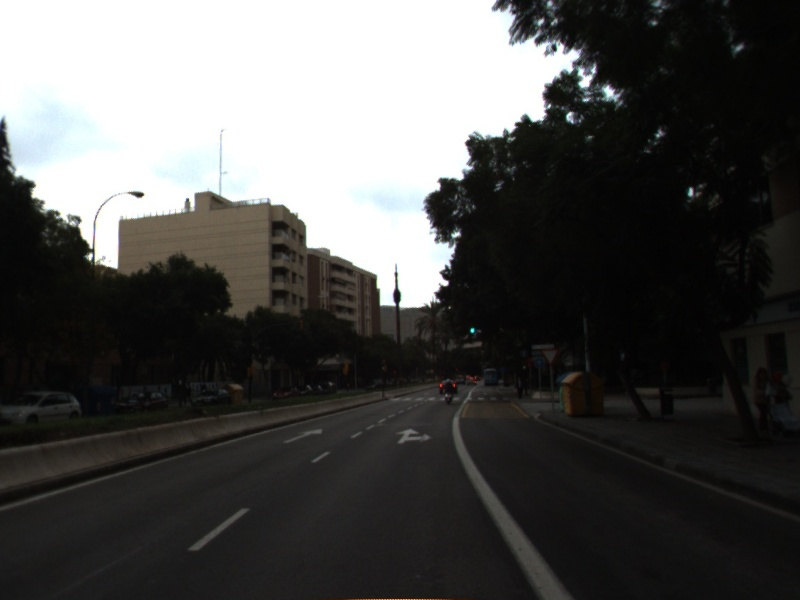STRAIGHT: (280, 426, 325, 445)
STRAIGHT_RIGHT: (393, 426, 434, 445)
